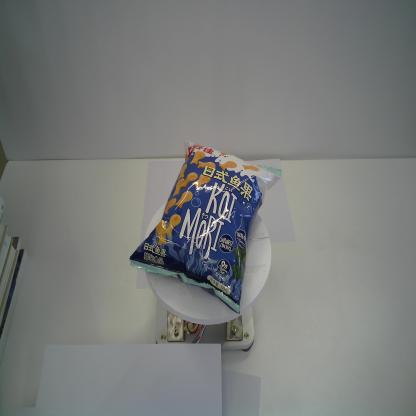Puffed Food: (128, 138, 283, 314)
